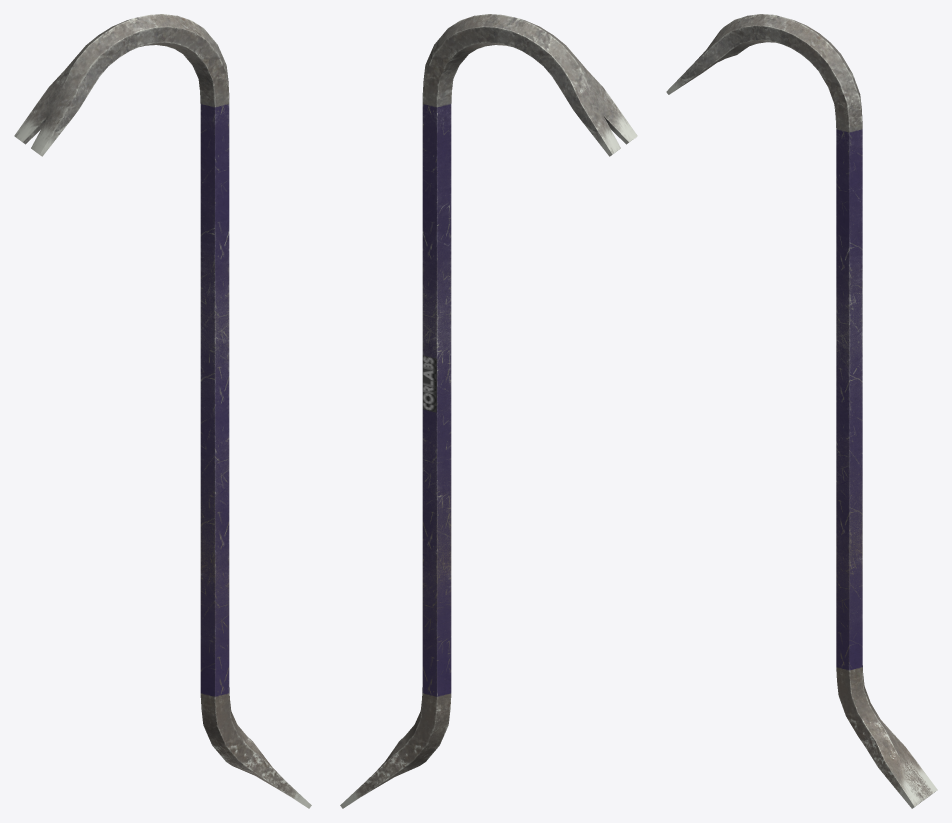
File: ConnorCrowbar.glb
3 renders of one model, left to right at view 1: azimuth 30°, elevation 25°; view 2: azimuth 150°, elevation 25°; view 3: azimuth 330°, elevation 25°, orthographic. The views are drawn at different scales.
Parts seen in each view (by area): view 1: Crowbar; view 2: Crowbar; view 3: Crowbar.
Part boxes in pixels (box(x1,y1,x2,y2)): Crowbar: box(14, 14, 311, 808); Crowbar: box(340, 14, 637, 808); Crowbar: box(666, 14, 937, 808).
Size of the model in its own units: 0.6968 by 2.01 by 0.1127.
1 material, 1 textured.
